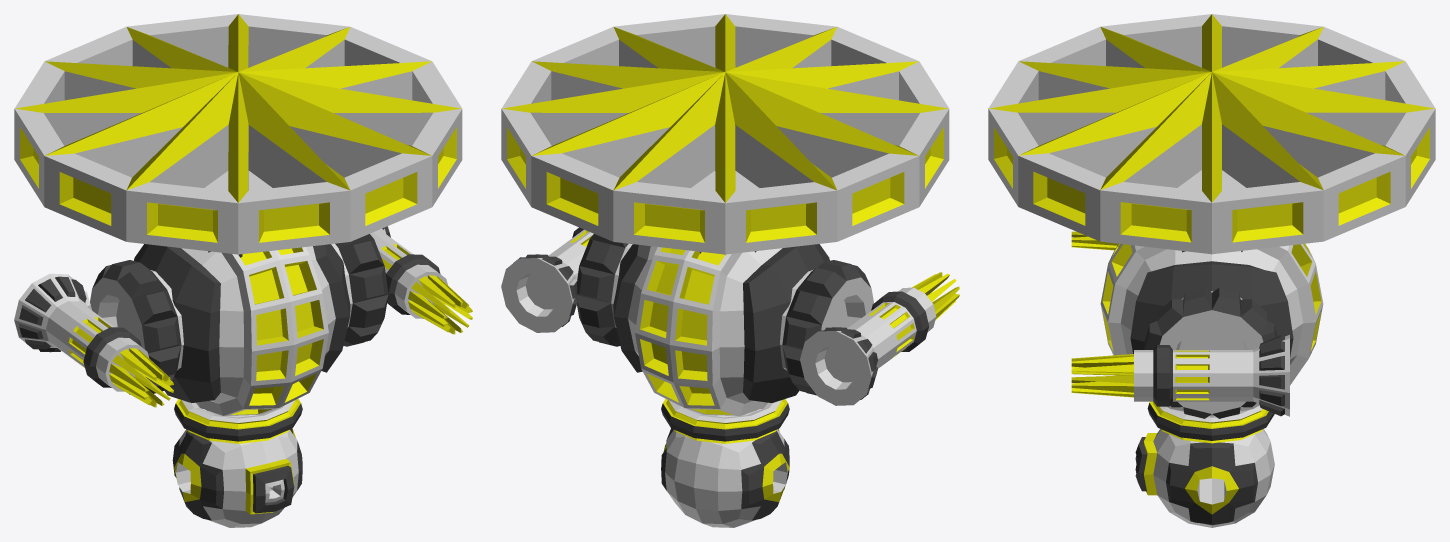
Rendered from mid_tower2_1.fbx.
3 renders of one model, left to right at view 1: azimuth 30°, elevation 25°; view 2: azimuth 150°, elevation 25°; view 3: azimuth 270°, elevation 25°, orthographic.
Visible parts, largest first — view 1: polySurface85; view 2: polySurface85; view 3: polySurface85.
Part boxes in pixels (box(x1,y1,x2,y2)): polySurface85: box(14, 14, 472, 527); polySurface85: box(501, 14, 959, 527); polySurface85: box(988, 14, 1435, 527).
Bounding box in the file's own units: 0.5833 × 0.6465 × 0.5833.
